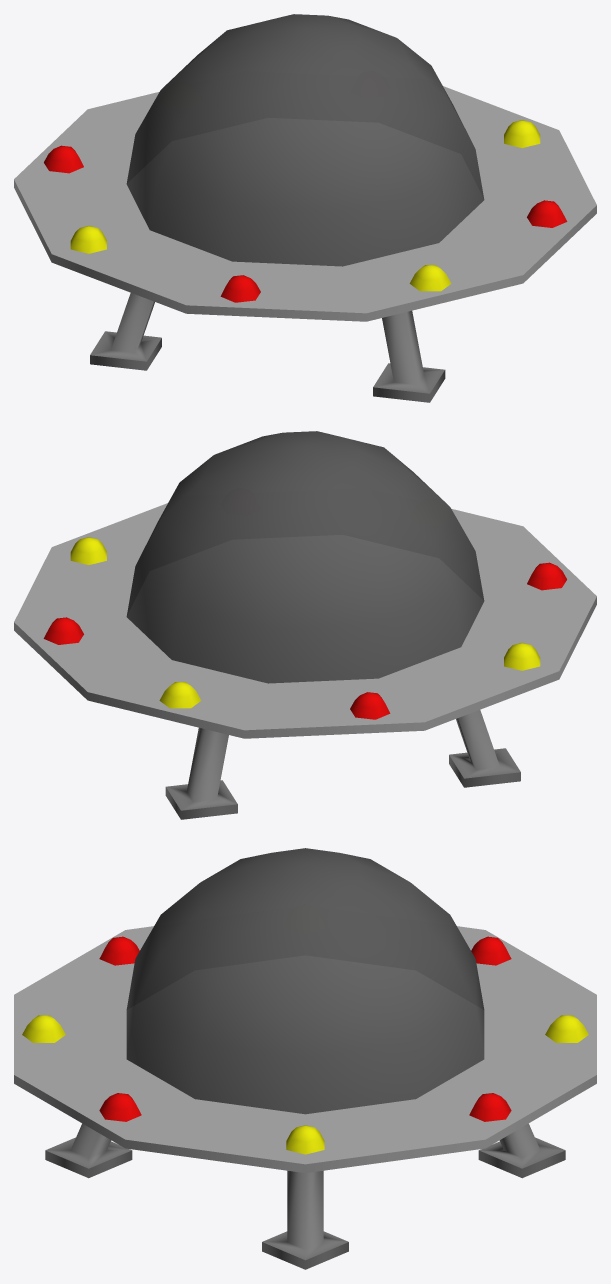
File: UFO.fbx
3 views of the same model, one above another, from view 1: azimuth 30°, elevation 25°; view 2: azimuth 150°, elevation 25°; view 3: azimuth 270°, elevation 25° (orthographic). The views are drawn at different scales.
Parts seen in each view (by area): view 1: pSphere19, pCone7, pCylinder9, pCylinder8; view 2: pSphere19, pCone7, pCylinder11, pCylinder8; view 3: pSphere19, pCone7, pCylinder10, pCylinder9, pCylinder11.
Part boxes in pixels (bbox=[...]): pSphere19: bbox=[126, 14, 484, 266]; pCone7: bbox=[14, 86, 596, 321]; pCylinder9: bbox=[373, 310, 445, 402]; pCylinder8: bbox=[90, 293, 161, 370]; pSphere19: bbox=[126, 431, 484, 683]; pCone7: bbox=[14, 503, 596, 738]; pCylinder11: bbox=[165, 727, 237, 819]; pCylinder8: bbox=[449, 710, 520, 787]; pSphere19: bbox=[126, 848, 484, 1114]; pCone7: bbox=[14, 926, 596, 1173]; pCylinder10: bbox=[262, 1170, 348, 1269]; pCylinder9: bbox=[45, 1123, 132, 1178]; pCylinder11: bbox=[478, 1123, 565, 1178].
Bounding box in the file's own units: 7.03 × 3.74 × 6.69.
